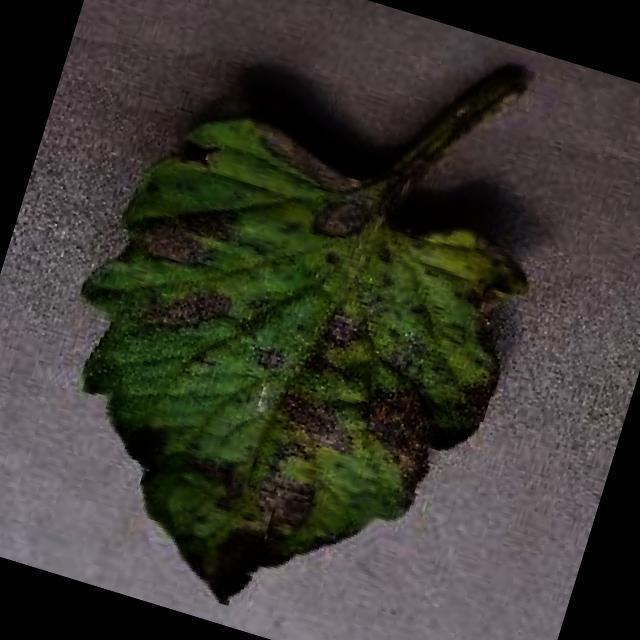Tomato Early blight leaf: (0, 75, 562, 640)
